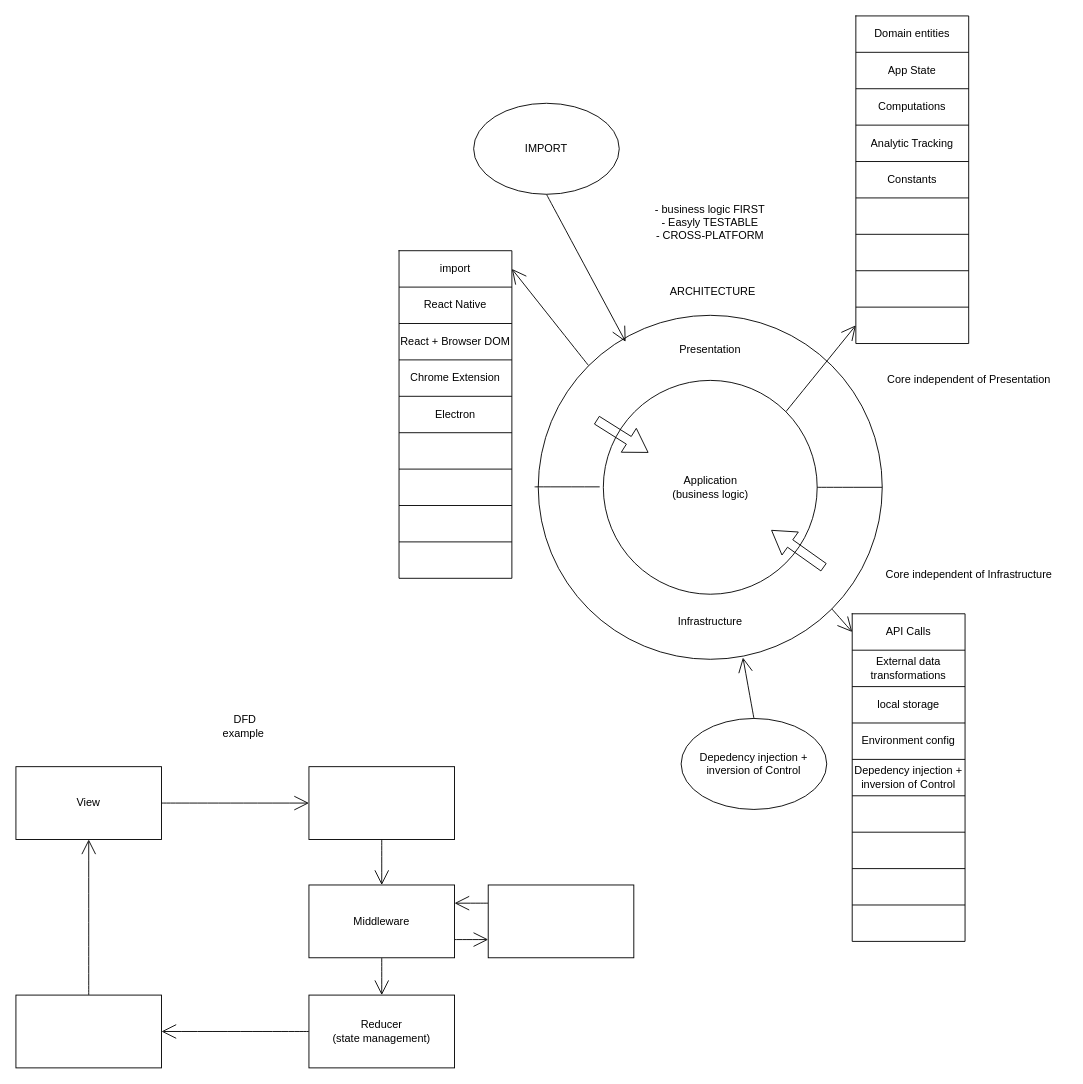
This 1083x1084 diagram has some shape labels left out. Each missing label, with the centre of its shape:
Action: point 381,802
API: point 560,921
State: point 88,1031
